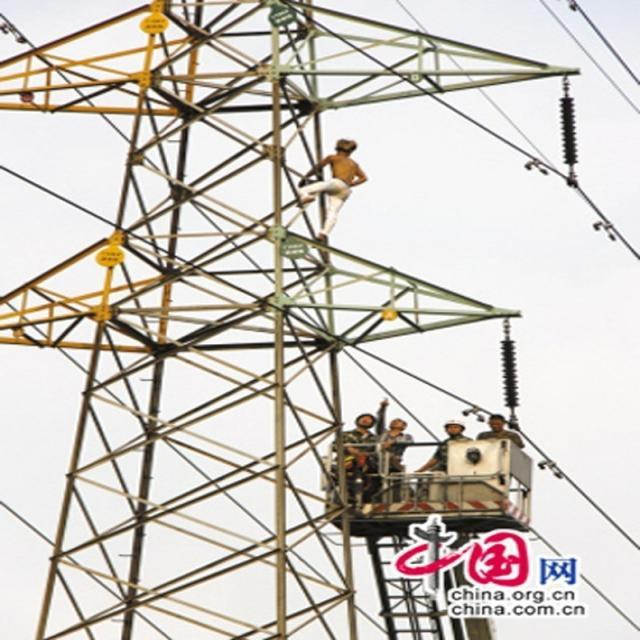non-critical vegetation: (11, 4, 506, 636)
